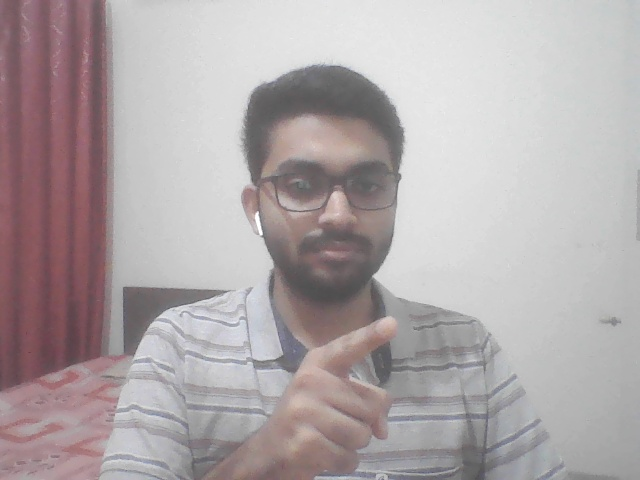you: (243, 305, 455, 480)
